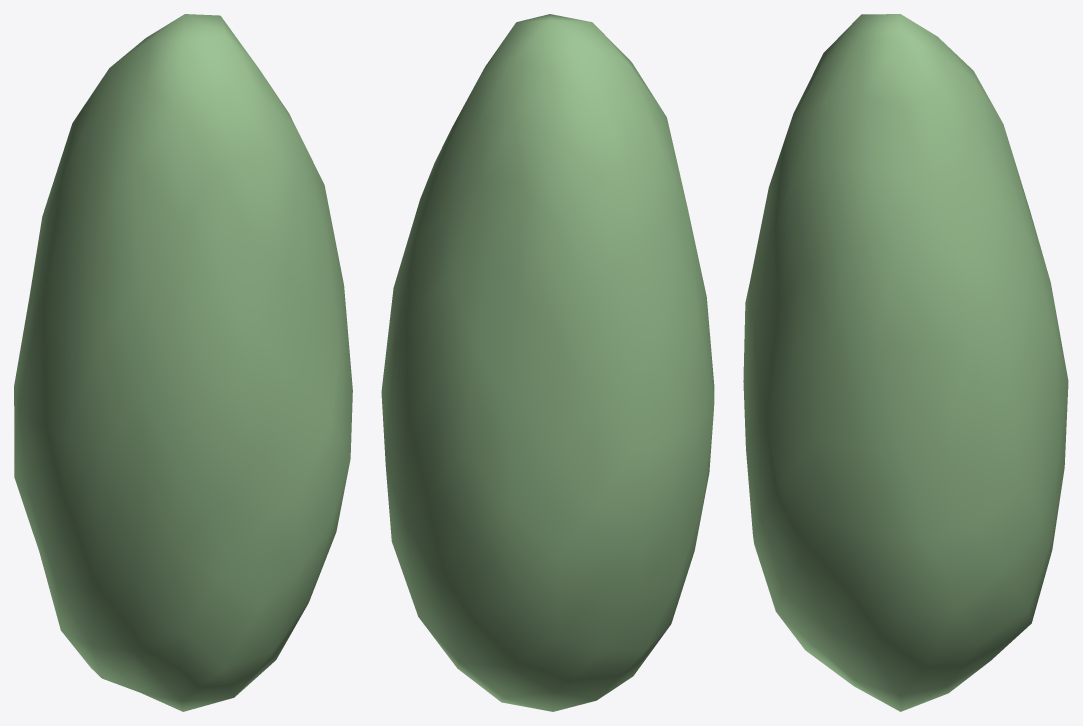
Rendered from tree-broadleaf-c-crown.glb.
3 renders of one model, left to right at view 1: azimuth 30°, elevation 25°; view 2: azimuth 150°, elevation 25°; view 3: azimuth 270°, elevation 25°, orthographic.
Visible parts, largest first — view 1: tree-broadleaf-c-crown; view 2: tree-broadleaf-c-crown; view 3: tree-broadleaf-c-crown.
Part boxes in pixels (left/top/right/bottom): tree-broadleaf-c-crown: left=14, top=14, right=352, bottom=711; tree-broadleaf-c-crown: left=381, top=14, right=714, bottom=711; tree-broadleaf-c-crown: left=743, top=14, right=1068, bottom=711.
Size of the model in its own units: 0.3428 by 0.7677 by 0.3343.
